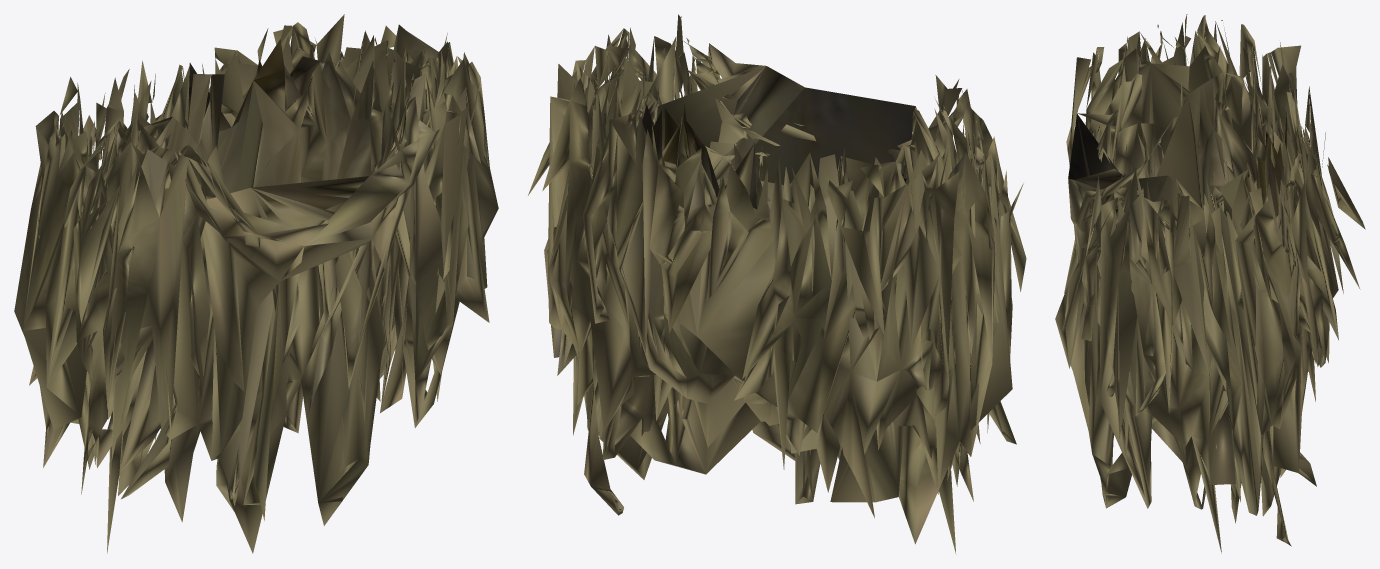
The model's file is cape-web.glb.
3 renders of one model, left to right at view 1: azimuth 30°, elevation 25°; view 2: azimuth 150°, elevation 25°; view 3: azimuth 270°, elevation 25°, orthographic. The views are drawn at different scales.
Bounding box in the file's own units: 0.721 × 0.65 × 0.4485.
Materials: 1 (1 with a texture image).
